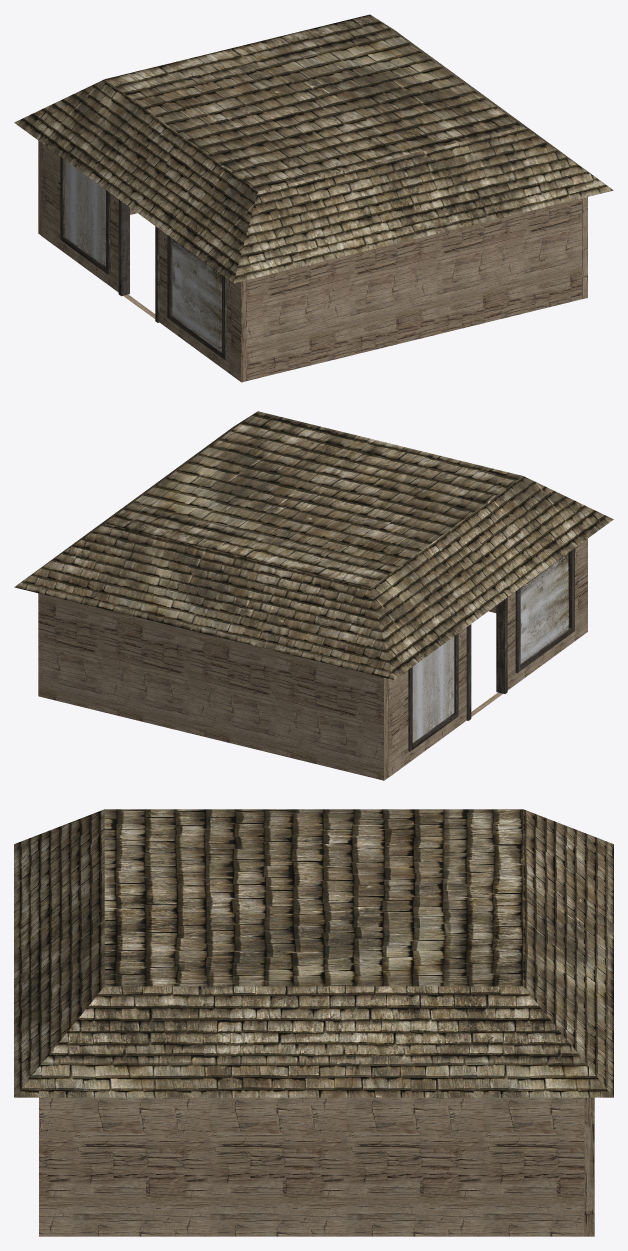
File: arcade_building.fbx
3 renders of one model, top to bottom at view 1: azimuth 30°, elevation 25°; view 2: azimuth 150°, elevation 25°; view 3: azimuth 270°, elevation 25°, orthographic. The views are drawn at different scales.
Parts seen in each view (by area): view 1: pCube32, polySurface1, polySurface3, polySurface2; view 2: pCube32, polySurface1, polySurface3, polySurface2; view 3: pCube32, polySurface1.
Boxes of the visible parts, x1,y1,x2,y2 form: pCube32: [14, 14, 613, 283]; polySurface1: [38, 140, 587, 382]; polySurface3: [64, 160, 221, 350]; polySurface2: [60, 157, 226, 359]; pCube32: [14, 411, 613, 679]; polySurface1: [38, 538, 587, 780]; polySurface3: [412, 552, 569, 742]; polySurface2: [408, 548, 574, 751]; pCube32: [14, 809, 613, 1097]; polySurface1: [39, 1097, 594, 1236].
Size of the model in its own units: 660 by 271 by 660.
